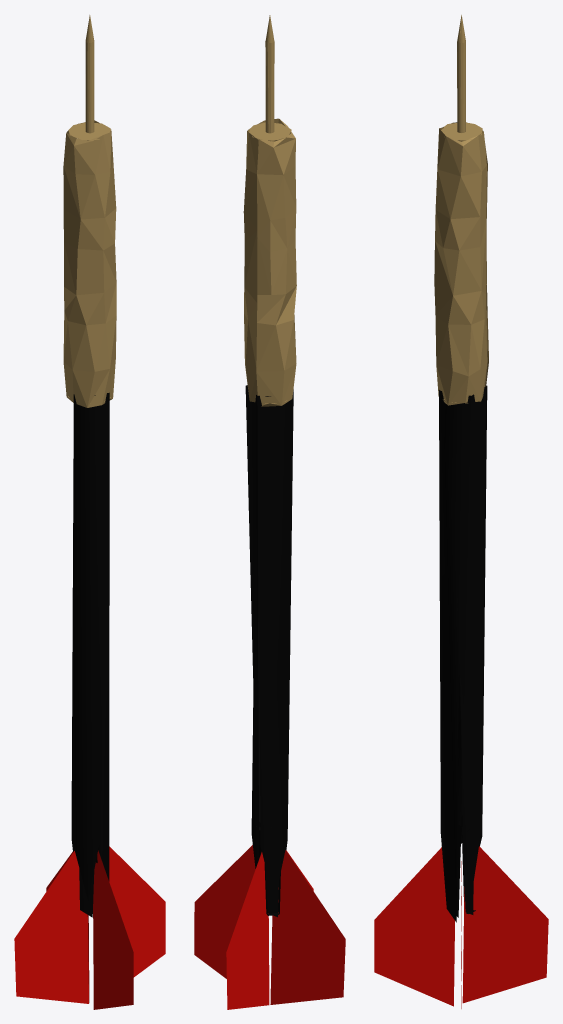
The model's file is dart.gltf.
The picture shows the model from 3 angles, left to right: view 1: azimuth 30°, elevation 25°; view 2: azimuth 150°, elevation 25°; view 3: azimuth 270°, elevation 25°; orthographic projection.
Visible parts, largest first — view 1: Cylinder_2; view 2: Cylinder_2; view 3: Cylinder_2.
Boxes of the visible parts, x1,y1,x2,y2 form: Cylinder_2: (14, 15, 165, 1009); Cylinder_2: (194, 15, 345, 1009); Cylinder_2: (374, 15, 548, 1008).
Bounding box in the file's own units: 3.12 × 19.58 × 3.12.
